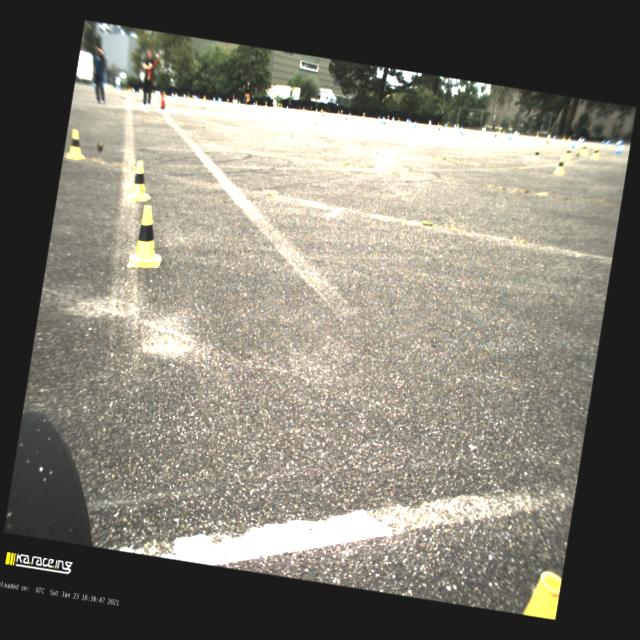blue_cone: (614, 142, 624, 156), (616, 138, 625, 147), (570, 138, 576, 149), (170, 90, 176, 100), (546, 132, 552, 142), (130, 86, 136, 95), (507, 132, 513, 140), (581, 136, 587, 144), (606, 138, 612, 146), (459, 126, 464, 135), (413, 120, 418, 129), (391, 115, 396, 124), (91, 82, 98, 88), (136, 87, 142, 94), (380, 115, 384, 124), (382, 116, 386, 125), (552, 134, 558, 140), (483, 126, 487, 134), (513, 129, 517, 137), (193, 94, 197, 101), (235, 98, 239, 105), (602, 138, 606, 145), (453, 123, 457, 129), (154, 90, 158, 96), (157, 90, 161, 96), (182, 93, 186, 99), (217, 97, 221, 103), (429, 120, 432, 127), (406, 118, 409, 124), (212, 96, 215, 102), (232, 99, 235, 105), (408, 118, 411, 124), (444, 124, 448, 128), (176, 93, 179, 98), (286, 105, 289, 110), (315, 108, 318, 113), (517, 132, 520, 137), (220, 98, 223, 102), (252, 102, 255, 106), (348, 112, 351, 116), (578, 137, 580, 143), (378, 115, 380, 120)
yellow_cone: (126, 204, 170, 272), (125, 160, 156, 204), (66, 128, 88, 160), (554, 155, 566, 175), (531, 146, 542, 164), (590, 144, 600, 160), (564, 146, 573, 160), (580, 142, 589, 155), (128, 86, 136, 96), (544, 138, 551, 149), (492, 131, 499, 142), (435, 124, 442, 135), (343, 114, 349, 124), (154, 90, 160, 100), (382, 118, 388, 128), (104, 85, 110, 94), (190, 95, 196, 104), (321, 110, 326, 120), (534, 132, 540, 140), (561, 134, 567, 142), (578, 136, 584, 144), (202, 95, 208, 102), (139, 87, 144, 95), (264, 101, 269, 109), (426, 120, 431, 128), (479, 126, 484, 134), (567, 135, 572, 143), (226, 98, 230, 107), (339, 110, 344, 117), (386, 115, 391, 122), (319, 108, 323, 116), (514, 130, 518, 138), (151, 89, 155, 96), (362, 112, 366, 119), (456, 123, 460, 130), (498, 128, 502, 135), (174, 92, 178, 98), (238, 100, 242, 106), (254, 101, 258, 107), (397, 117, 401, 123), (302, 107, 306, 112), (187, 94, 190, 100), (277, 103, 280, 109), (280, 104, 283, 110), (234, 98, 236, 106), (337, 111, 340, 116), (436, 122, 439, 126)
